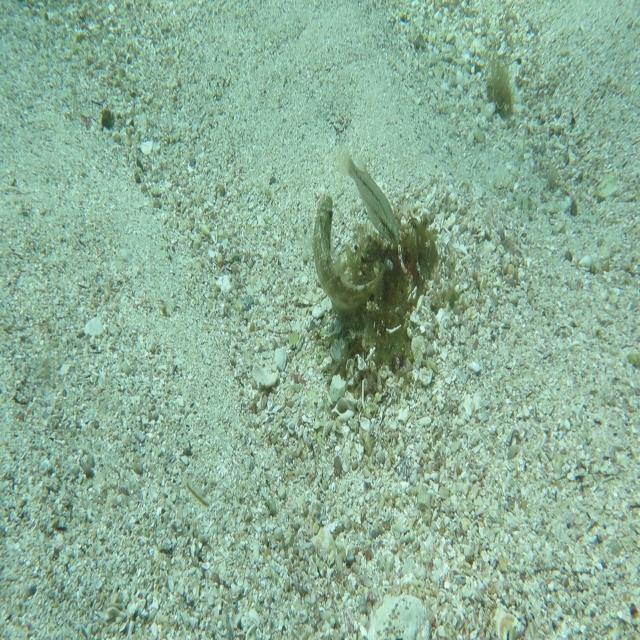BEND: (310, 194, 391, 316)
female: (334, 142, 401, 246)
nest: (326, 207, 442, 398)
